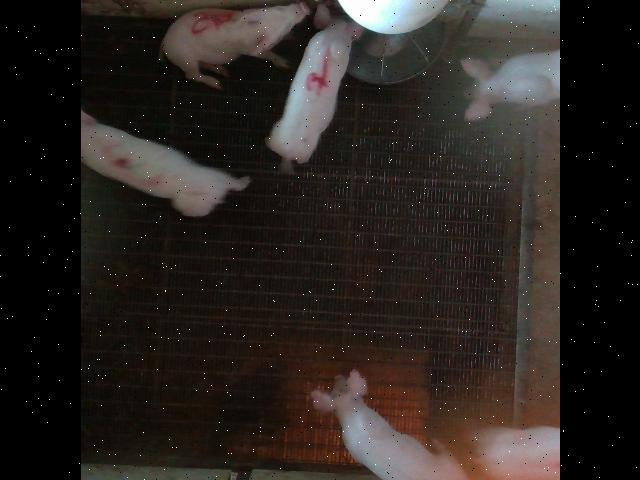pig-1: (470, 428, 558, 480)
pig-3: (80, 112, 248, 216)
pig-4: (265, 5, 361, 164)
pig-5: (159, 2, 308, 89)
